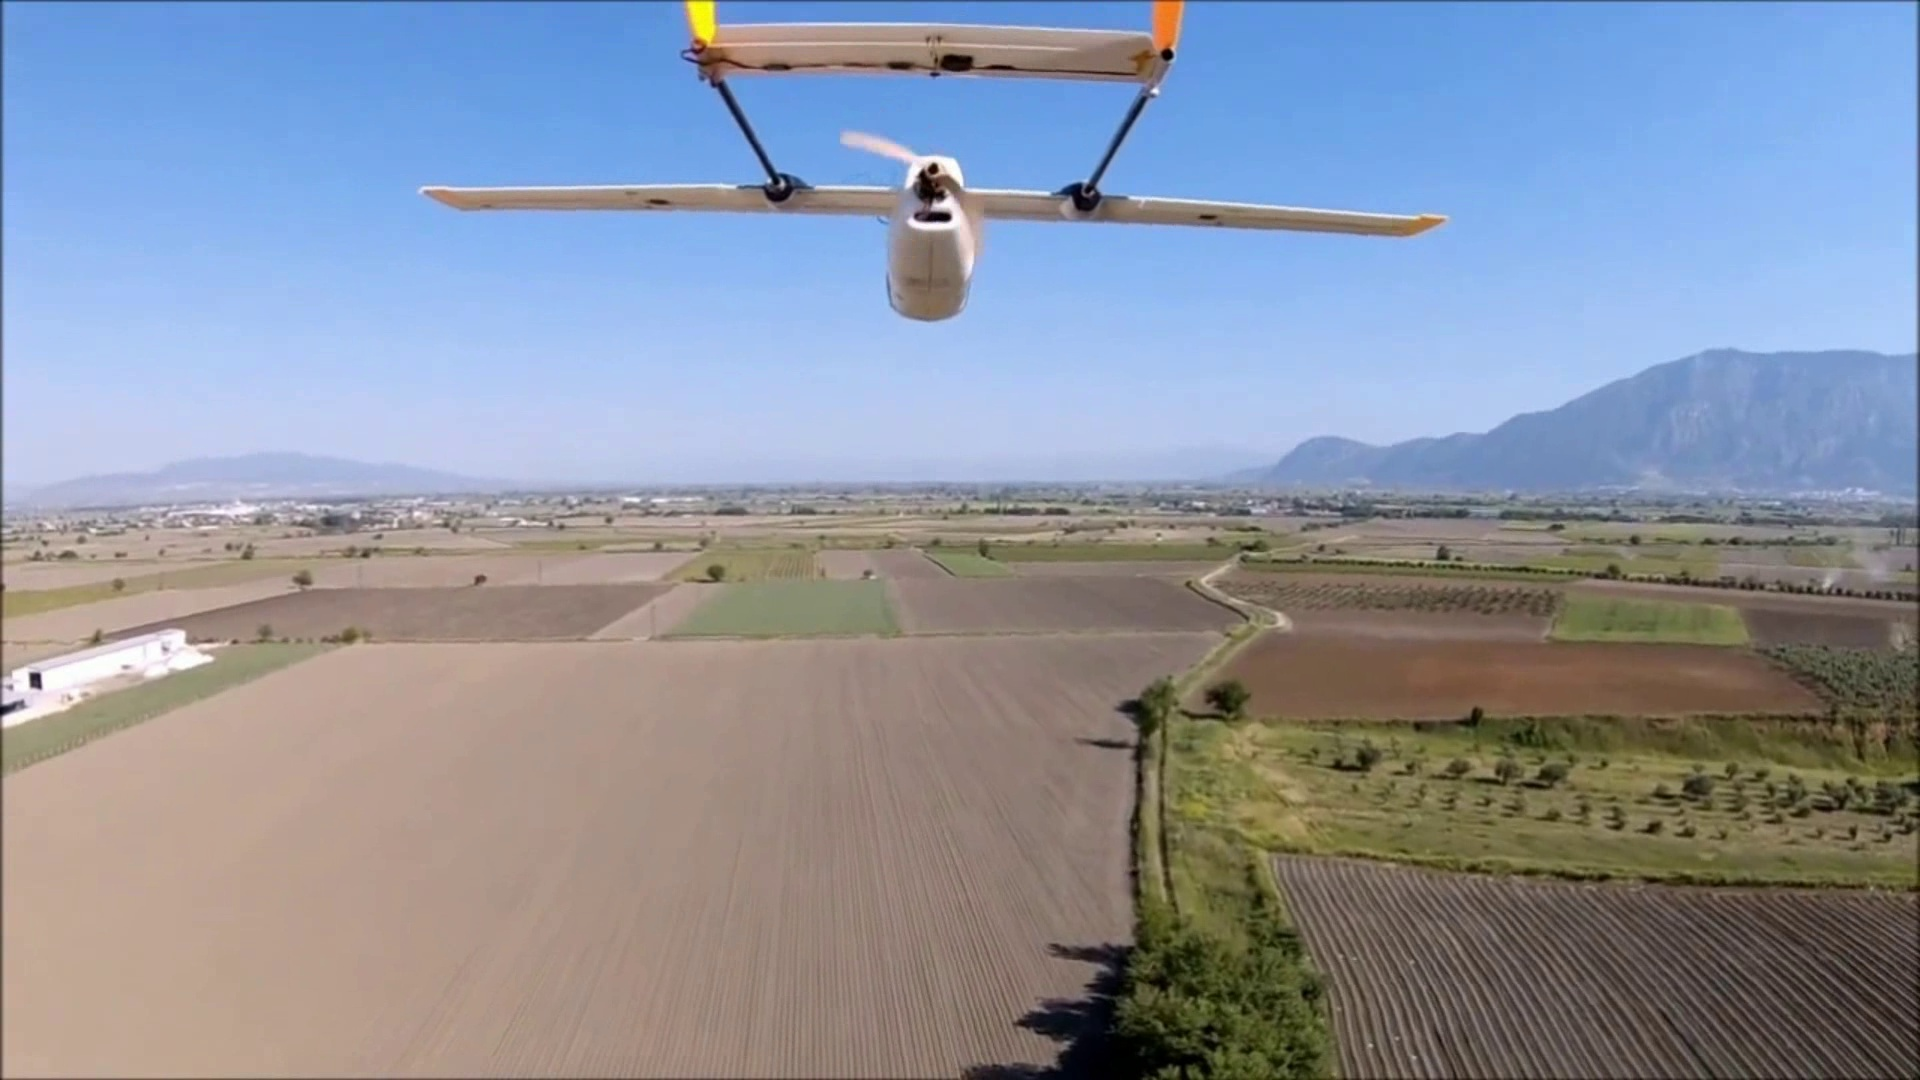airplane: (420, 9, 1445, 326)
